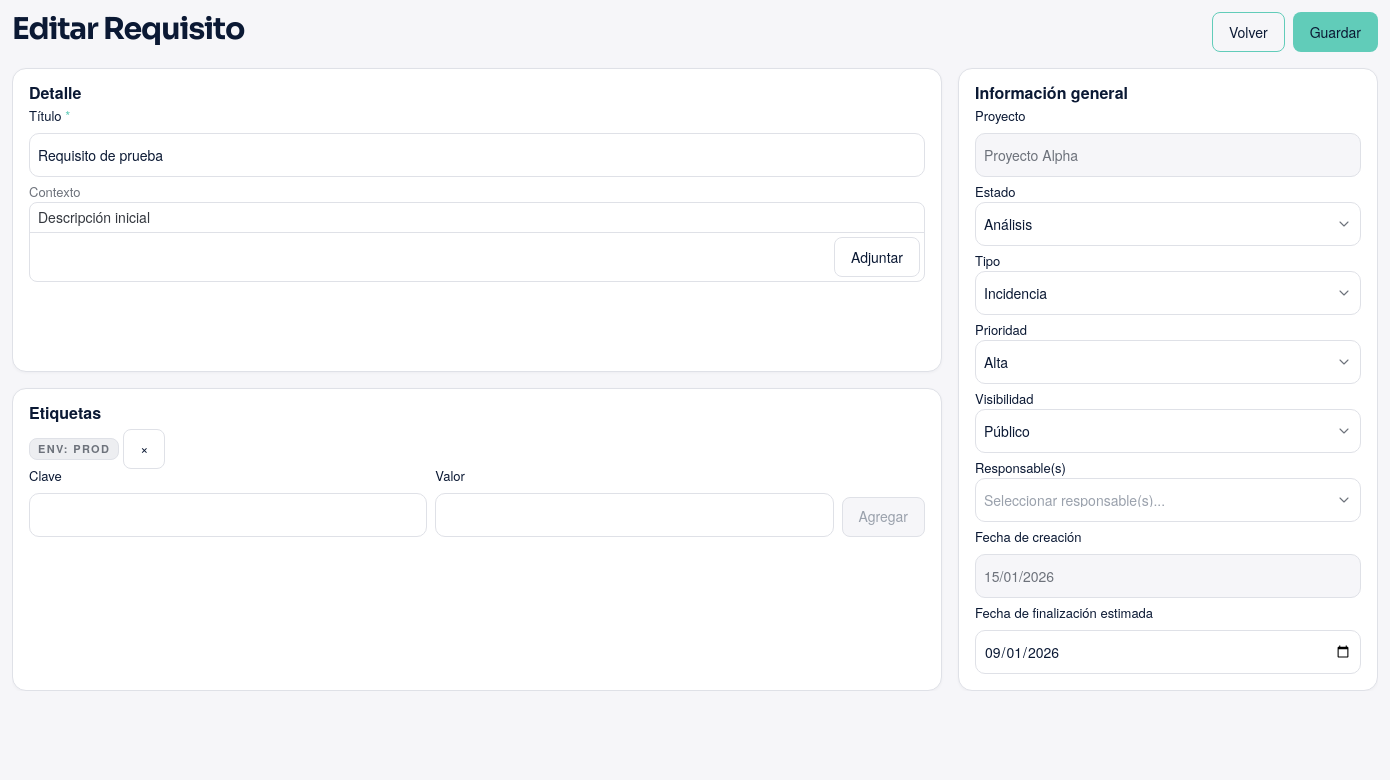
Test: EditRequirementForm › REQ-012: para type=incidencia, el Select Estado sigue ofreciendo "En cola" (7 opciones, sin recorte por tipo)
The image size is (1390, 780).
Click the dropdown named "estado". click: (1008, 224)
box: [975,202,1361,246]
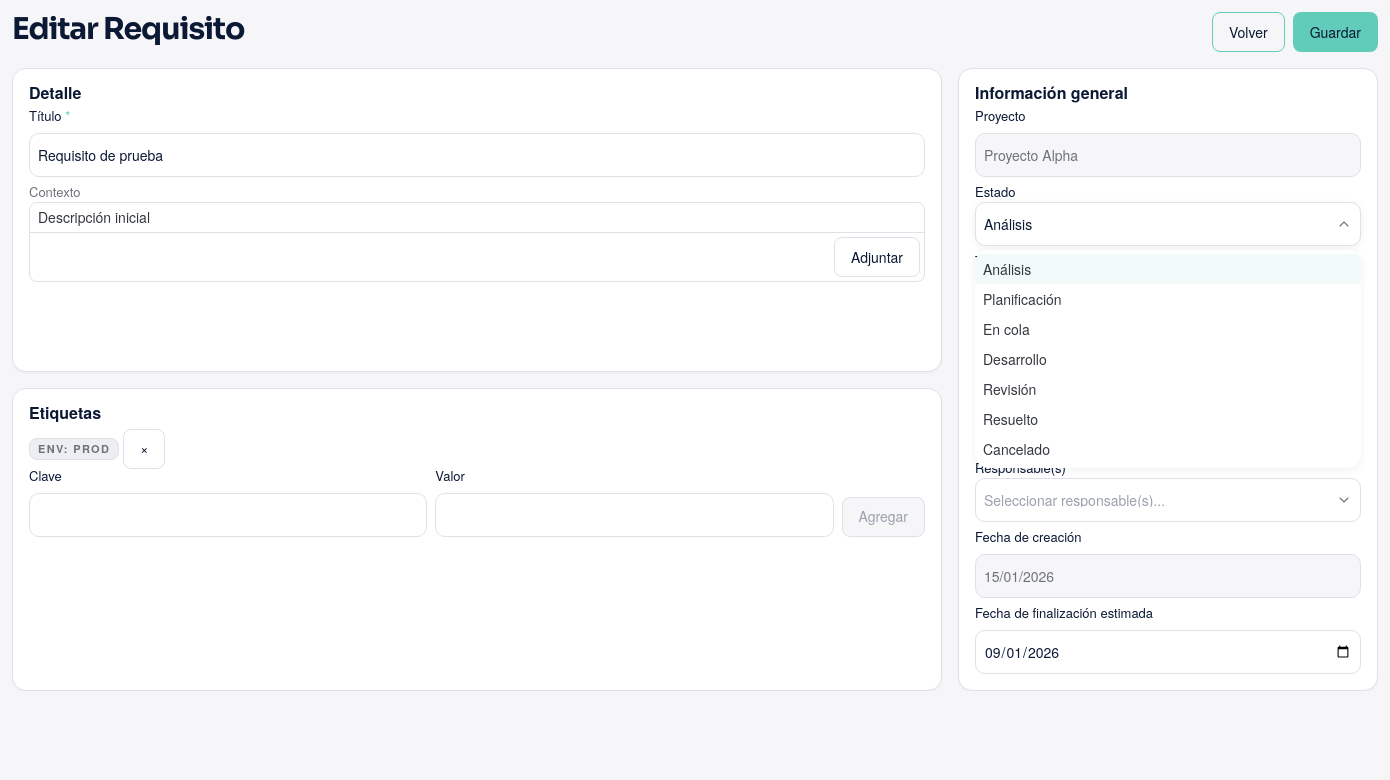
Result: the option "Análisis" is shown at [975,254,1361,284]
Result: the option "Planificación" is shown at [983,289,1062,309]
Result: the option "En cola" is shown at [983,319,1030,339]
